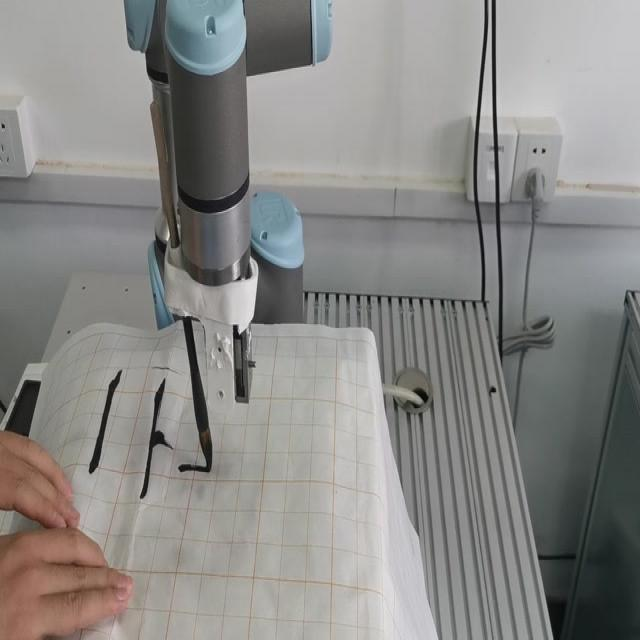head: (196, 428, 214, 472)
writing-brush: (145, 100, 221, 471)
